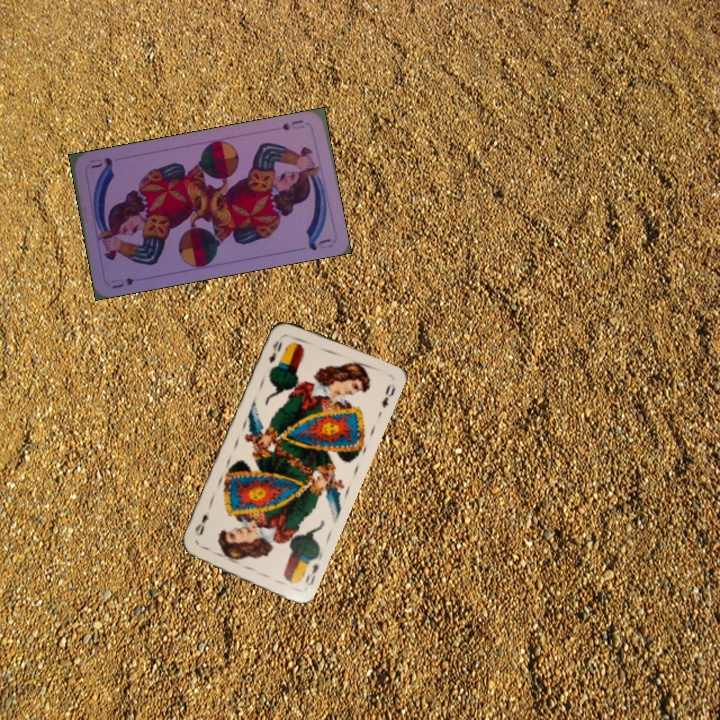EO: (298, 552, 324, 588), (265, 336, 285, 366)
SU: (108, 273, 136, 291), (278, 116, 307, 133)
